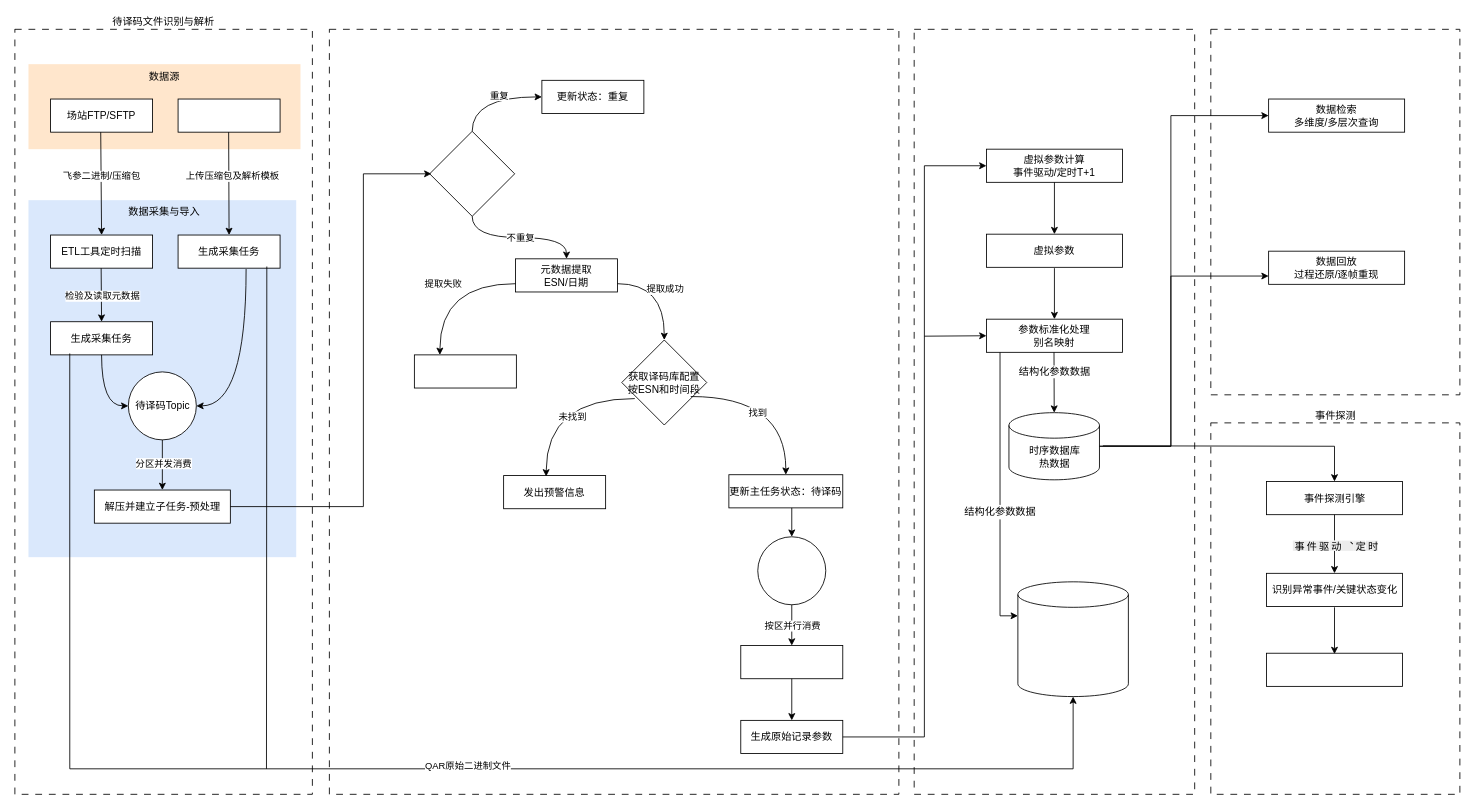
This 1475x809 diagram has some shape labels left out. The shapes that lost their labels are listed below. From the top down, each one's box as (x1, y1, x2, y2) in pixels, then its label:
(177, 98, 280, 132): 用户WEB端
(429, 130, 515, 216): 文件判重 文件名/MD5/大小
(1210, 28, 1460, 395): 数据应用
(414, 354, 516, 388): 更新状态：失败
(329, 28, 899, 794): 译码引擎工作流程
(913, 28, 1195, 794): 译码数据存储
(757, 536, 826, 605): 文件译码 Topic
(1017, 581, 1128, 697): 数据湖 对象存储、 Parquet 对象存储、RAW 对象存储、media 非结构化数据 ……
(740, 645, 843, 679): 按协议执行译码
(1266, 652, 1402, 686): 触发告警/主动感知
